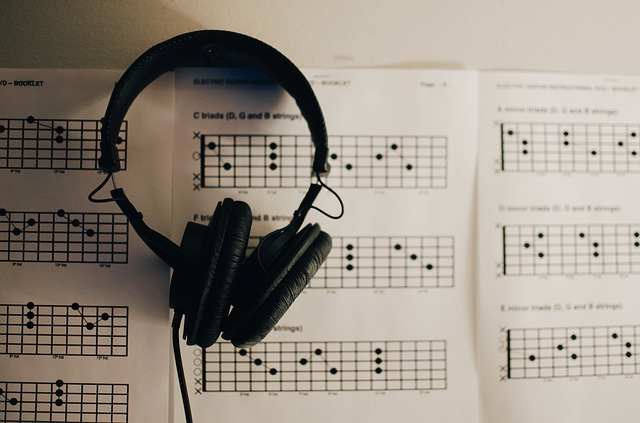headphones: (98, 30, 333, 349)
